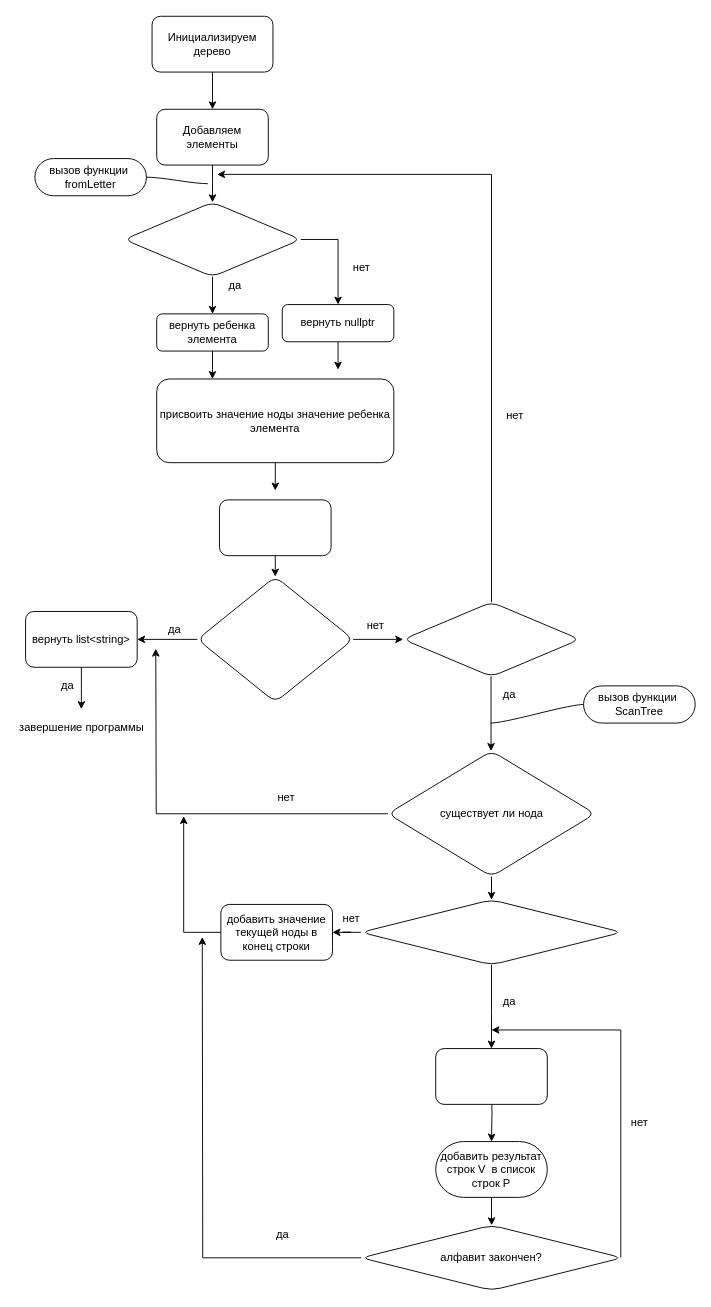
Some shapes in this 711 by 1307 pixel diagram are drawn without their labels. Here are the shapes that lost their labels. From the top down, the centre of each, then its label:
(x=212, y=239): элемент строки в диапазоне от a до z
(x=275, y=527): удалить первый (нулевой) элемент строки
(x=275, y=639): значение ноды nullptr
(x=491, y=639): строка P пустая
(x=491, y=932): существуют ли у текущей ноды дети?
(x=491, y=1076): вызов функции ScanTree результат V - список найденых нод-детей
